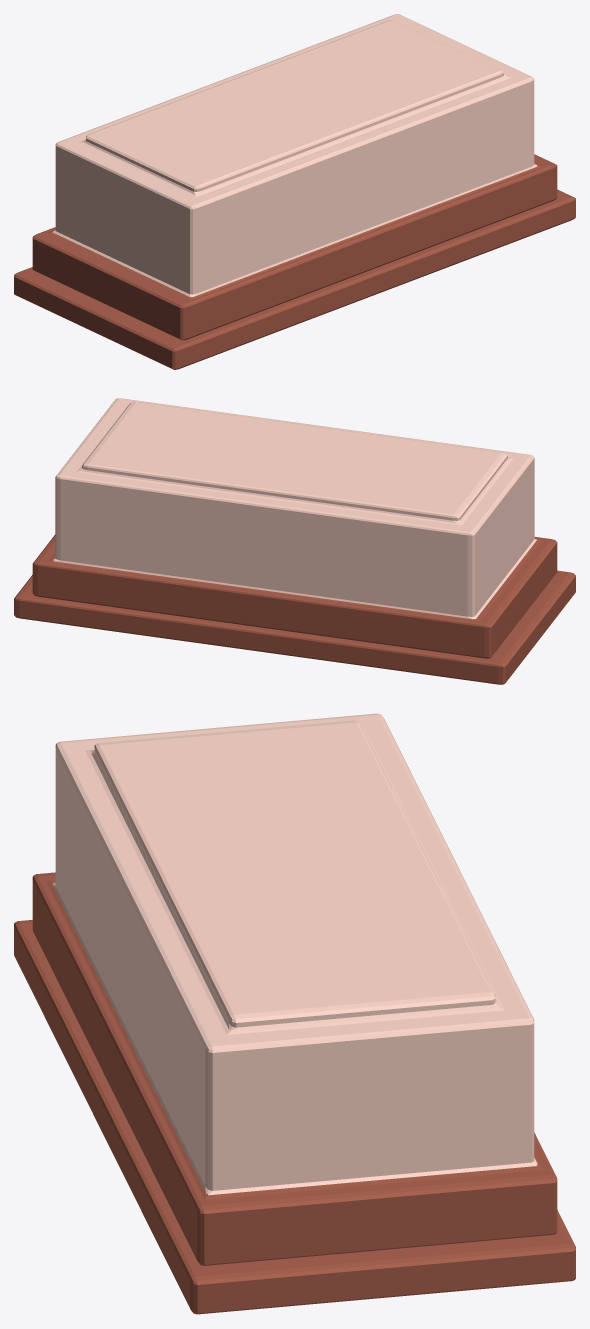
The model's file is item-stand9.fbx.
3 renders of one model, top to bottom at view 1: azimuth 30°, elevation 25°; view 2: azimuth 150°, elevation 25°; view 3: azimuth 270°, elevation 25°, orthographic. The views are drawn at different scales.
Parts seen in each view (by area): view 1: Cube.034; view 2: Cube.034; view 3: Cube.034.
Boxes of the visible parts, bbox=[...] form: Cube.034: bbox=[14, 14, 575, 369]; Cube.034: bbox=[14, 398, 575, 684]; Cube.034: bbox=[14, 713, 575, 1314].
Size of the model in its own units: 1972 by 581 by 1182.
